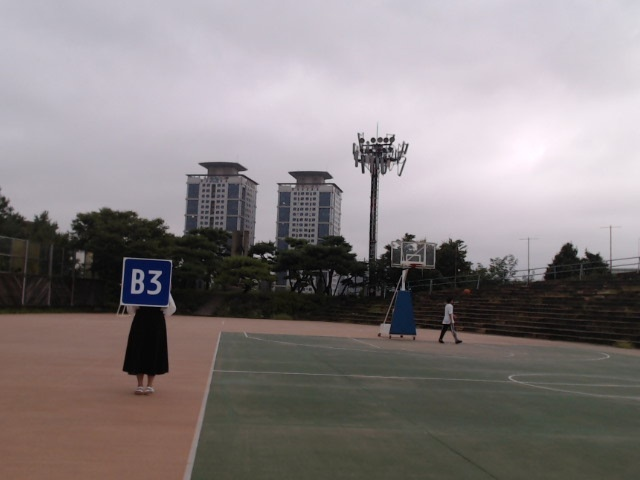delivery_b3: (122, 258, 172, 307)
